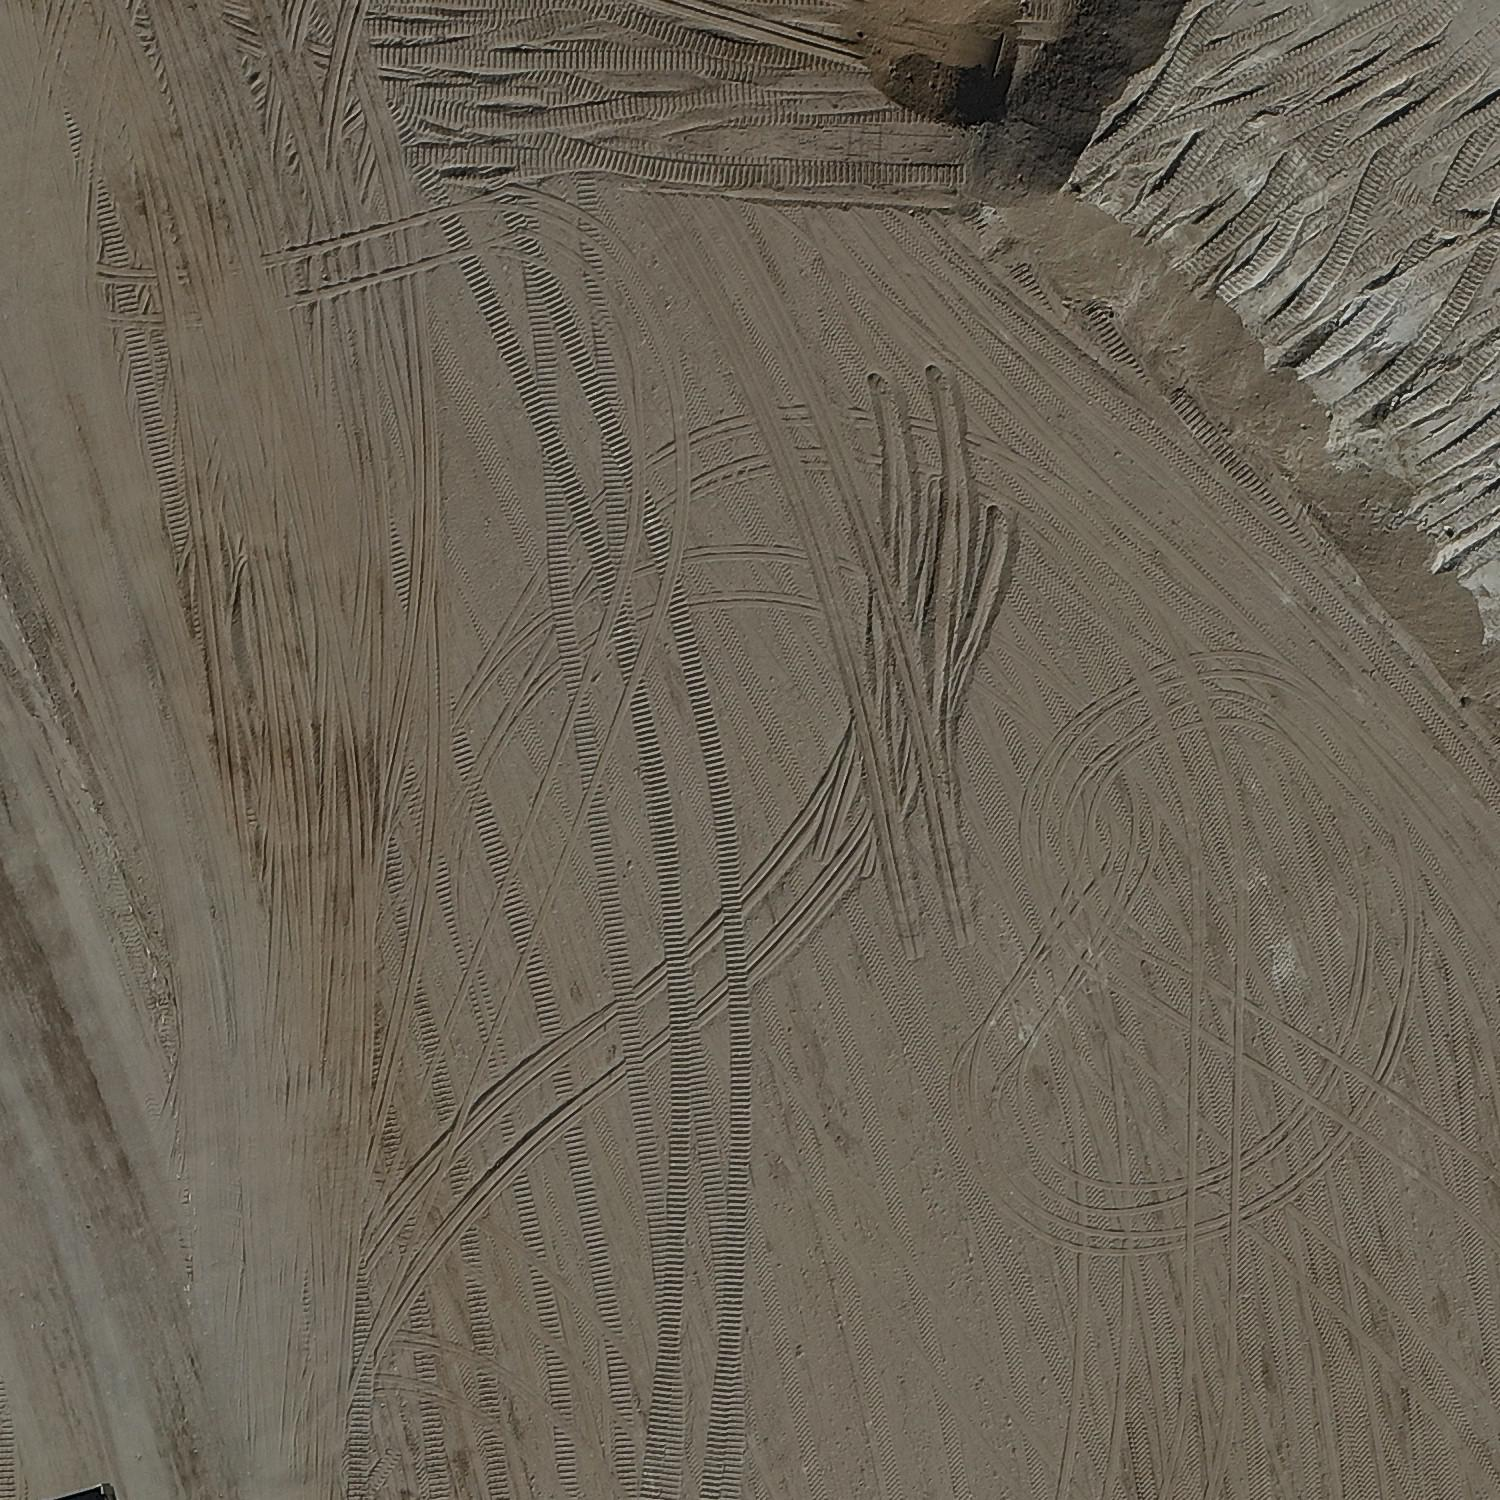empty-truck: (2, 1475, 231, 1500)
unwetted-truck: (0, 503, 13, 819)
